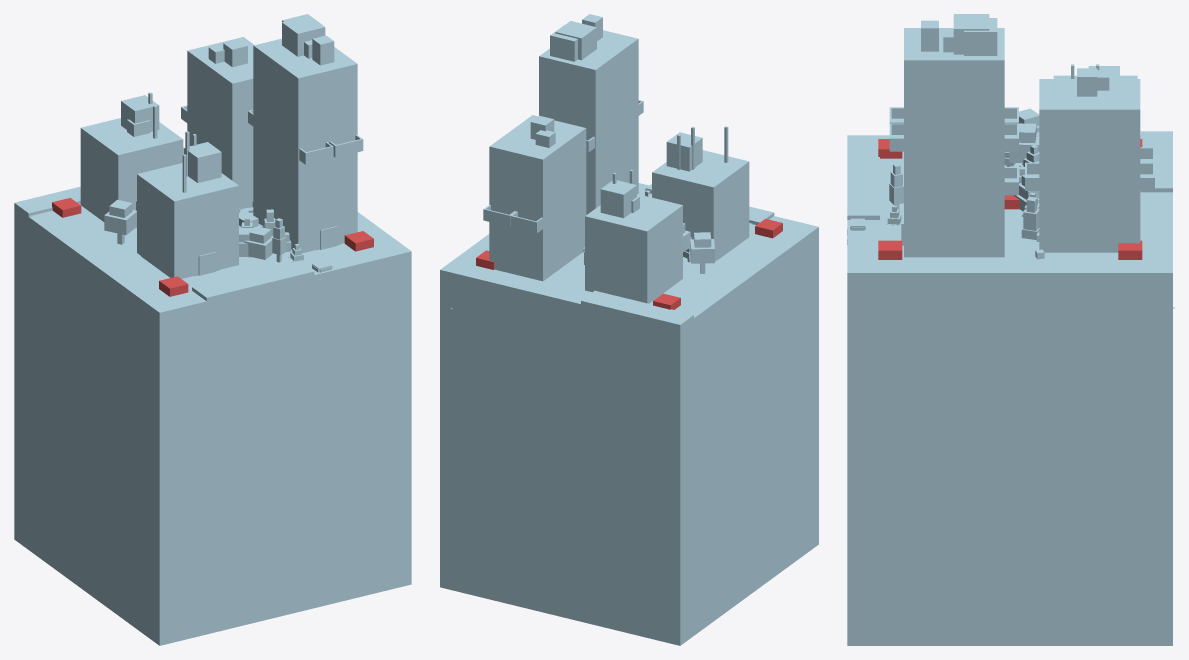
File: block_22_sewersystem_100.glb
The picture shows the model from 3 angles, left to right: view 1: azimuth 30°, elevation 25°; view 2: azimuth 150°, elevation 25°; view 3: azimuth 270°, elevation 25°; orthographic projection. The views are drawn at different scales.
Parts seen in each view (by area): view 1: Patch_UpperRight_b21_SL, ResidBldgs_b22_SL, Green_UpperRight_b22_SL, Roads_UpperRight_b21_SL, SL_Net_22, URTree_22_2_SL, URTree_22_7_SL; view 2: Patch_UpperRight_b21_SL, ResidBldgs_b22_SL, Roads_UpperRight_b21_SL, Green_UpperRight_b22_SL, SL_Net_22, URTree_22_2_SL; view 3: Patch_UpperRight_b21_SL, ResidBldgs_b22_SL, Roads_UpperRight_b21_SL, SL_Net_22, URTree_22_4_SL, Green_UpperRight_b22_SL, URTree_22_17_SL, URTree_22_11_SL.
Part boxes in pixels (<box>): Patch_UpperRight_b21_SL: <box>14,206,411,645</box>; ResidBldgs_b22_SL: <box>80,14,363,278</box>; Green_UpperRight_b22_SL: <box>31,204,285,285</box>; Roads_UpperRight_b21_SL: <box>14,186,411,326</box>; SL_Net_22: <box>52,198,373,296</box>; URTree_22_2_SL: <box>104,199,136,244</box>; URTree_22_7_SL: <box>244,226,273,259</box>; Patch_UpperRight_b21_SL: <box>440,183,818,645</box>; ResidBldgs_b22_SL: <box>483,14,749,303</box>; Roads_UpperRight_b21_SL: <box>440,206,818,332</box>; Green_UpperRight_b22_SL: <box>649,223,756,314</box>; SL_Net_22: <box>476,219,782,309</box>; URTree_22_2_SL: <box>690,232,714,273</box>; Patch_UpperRight_b21_SL: <box>847,135,1172,645</box>; ResidBldgs_b22_SL: <box>889,14,1154,257</box>; Roads_UpperRight_b21_SL: <box>847,131,1172,319</box>; SL_Net_22: <box>878,139,1142,259</box>; URTree_22_4_SL: <box>1009,123,1039,164</box>; Green_UpperRight_b22_SL: <box>880,136,1140,213</box>; URTree_22_17_SL: <box>1021,196,1039,239</box>; URTree_22_11_SL: <box>889,163,903,209</box>.
Bounding box in the file's own units: 9.5 × 19.17 × 9.55.
